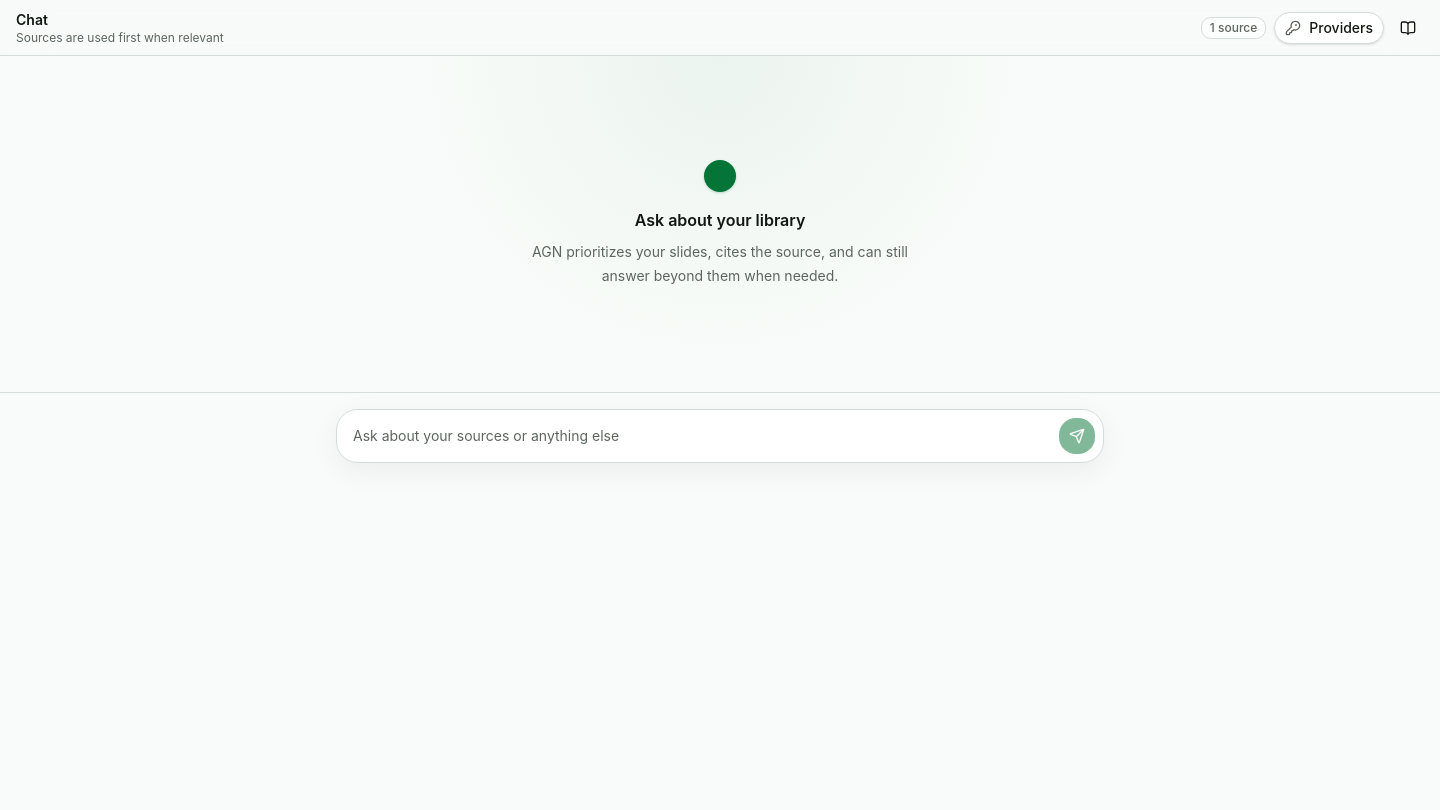
Test case: chat interactions › offers and persists an explicit basic outline without an API request
Click the button named "Study chapters".
click(1408, 28)  # box [1392,12,1424,44]
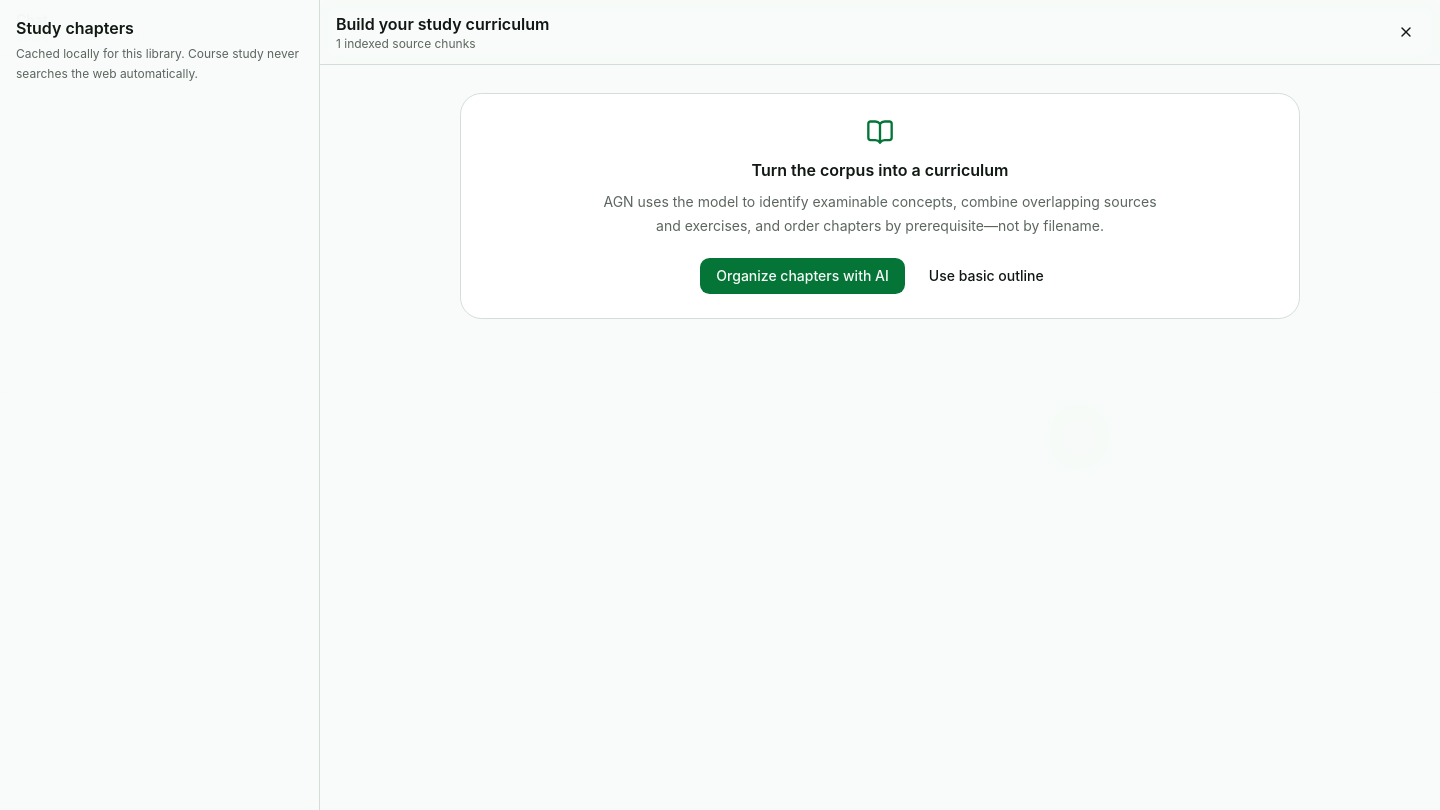
Click the button "Use basic outline".
click(986, 276)  # box [913,258,1060,294]
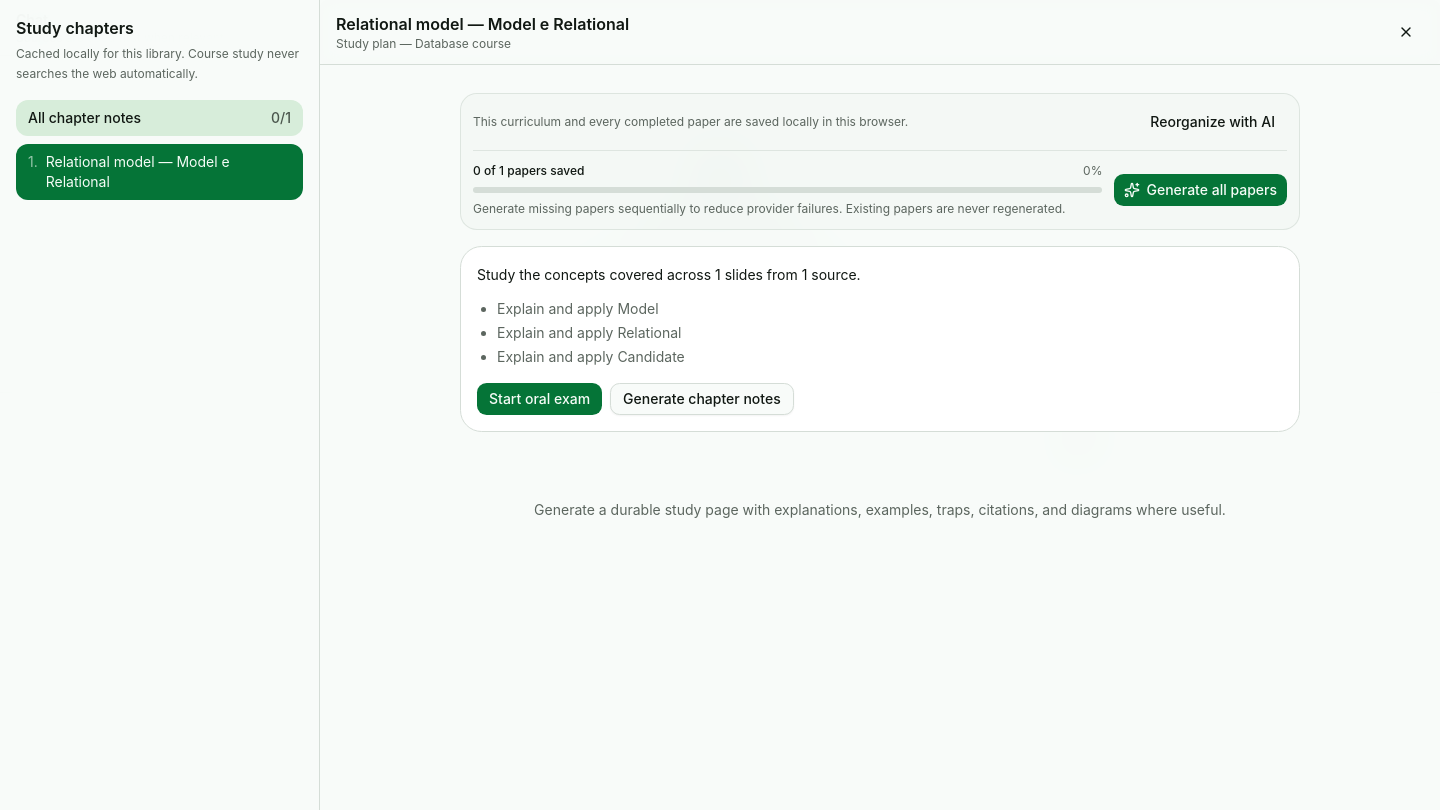
expect the text "Relational model — Model e Relational" is shown: met, box [46,153,230,190]
expect the button "Generate all papers" is shown: met, box [1114,174,1287,206]
